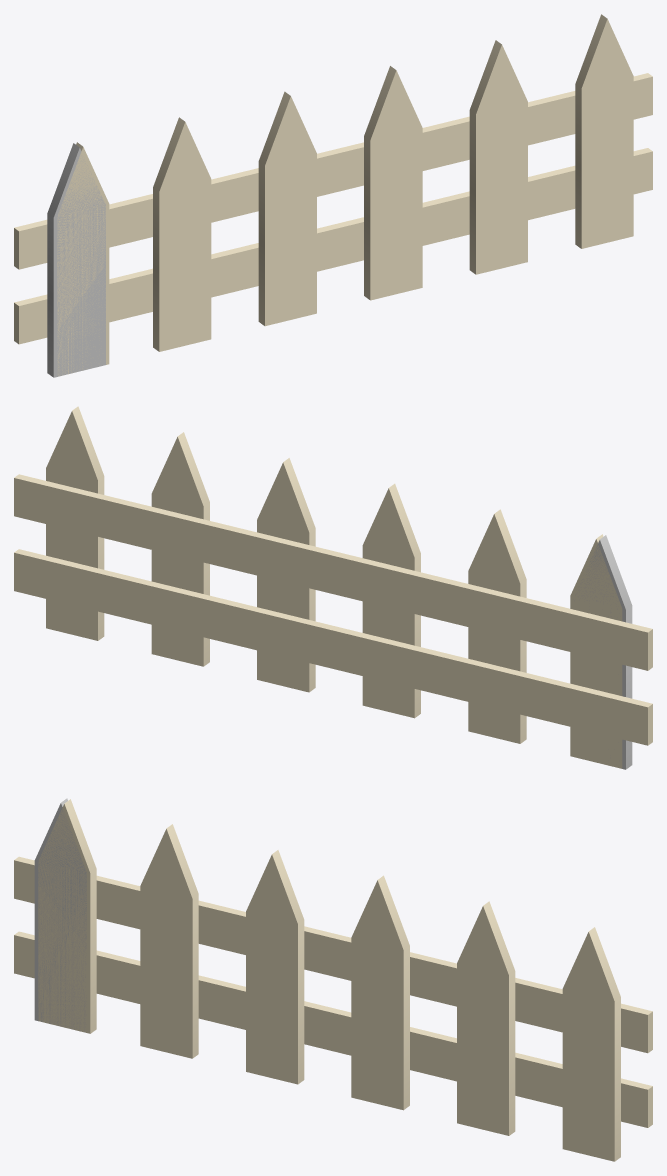
Rendered from fence.FBX.
3 views of the same model, one above another, from view 1: azimuth 30°, elevation 25°; view 2: azimuth 150°, elevation 25°; view 3: azimuth 330°, elevation 25° (orthographic).
Visible parts, largest first — view 1: fence (×8), Box052; view 2: fence (×8), Box052; view 3: fence (×8), Box052.
Boxes of the visible parts, <box> form: fence (×8): <box>14,14,652,376</box>; Box052: <box>47,143,105,377</box>; fence (×8): <box>14,406,652,768</box>; Box052: <box>574,535,632,769</box>; fence (×8): <box>14,799,652,1161</box>; Box052: <box>34,798,86,1030</box>.
Bounding box in the file's own units: 23.13 × 7.81 × 0.755.
